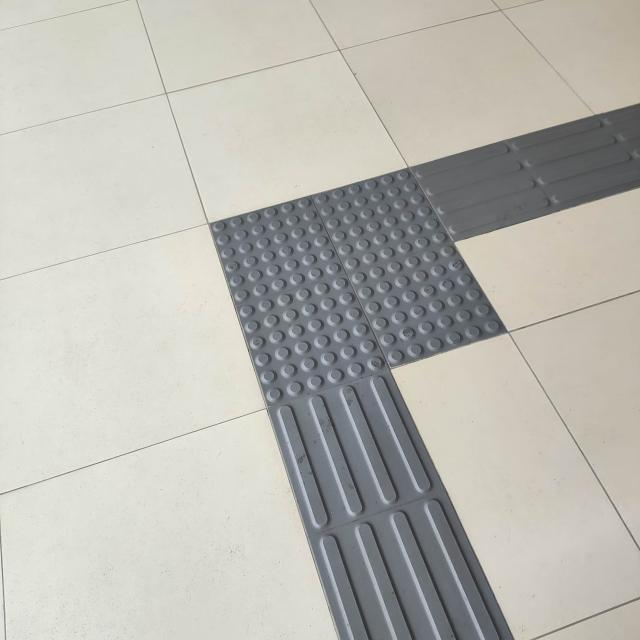kanan: (149, 119, 640, 442)
